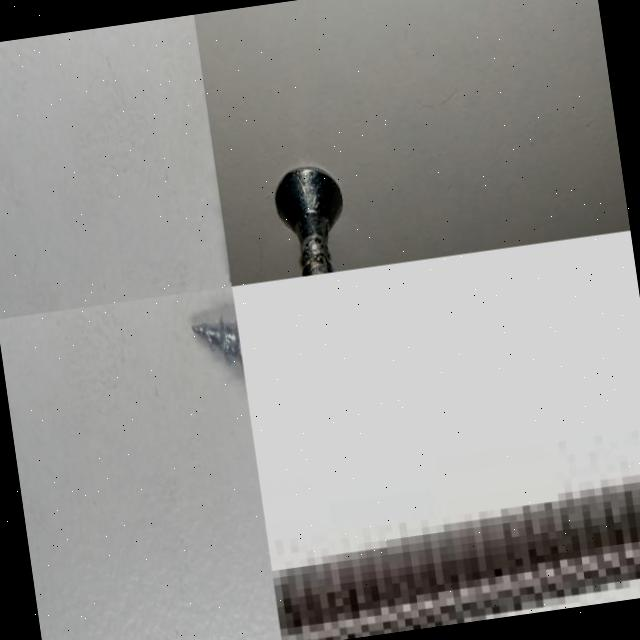Screw: (272, 480, 640, 640), (275, 168, 342, 277)
